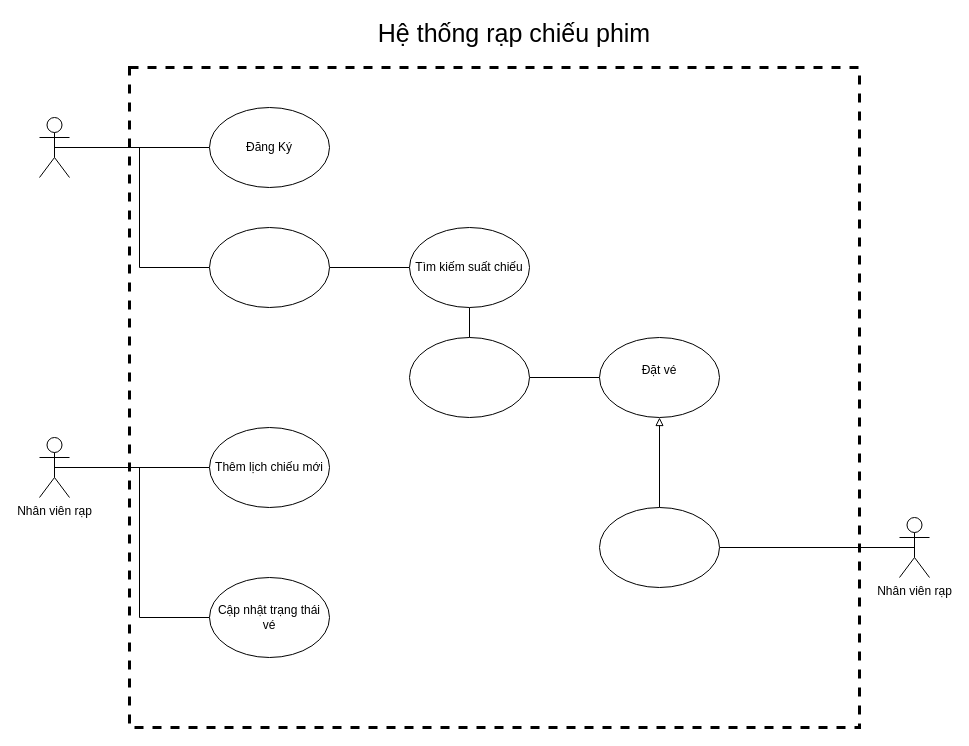
The diagram is 969 pixels wide and 746 high, and some of its shapes have lost their labels. The centre of each missing label's shape, as x and y in pixels:
Chọn ghế: point 469,377
Khách hàng: point 54,147
Xem báo cáo doanh thu: point 659,547
Đăng Nhập: point 269,267
